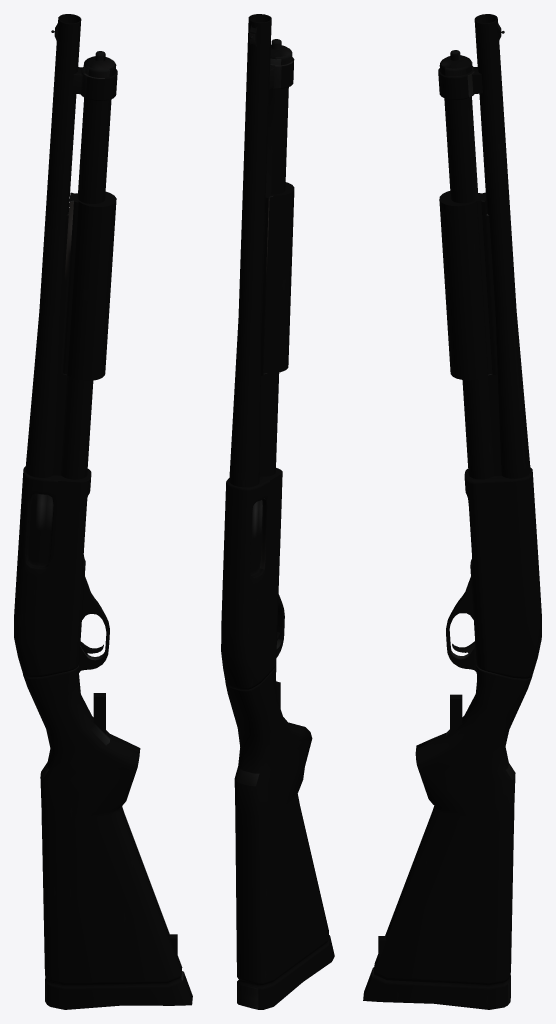
File: Rem870__Mount_ScopeBase__Stock_870_Folding.fbx
3 views of the same model, side by side, from view 1: azimuth 90°, elevation 25°; view 2: azimuth 150°, elevation 25°; view 3: azimuth 270°, elevation 25° (orthographic).
Visible parts, largest first — view 1: asset_Rem870.001; view 2: asset_Rem870.001; view 3: asset_Rem870.001.
Part boxes in pixels (x1,y1,x2,y2): asset_Rem870.001: (14, 14, 192, 1009); asset_Rem870.001: (221, 14, 334, 1009); asset_Rem870.001: (363, 14, 541, 1009).
Bounding box in the file's own units: 0.0251 × 0.636 × 0.1048.
